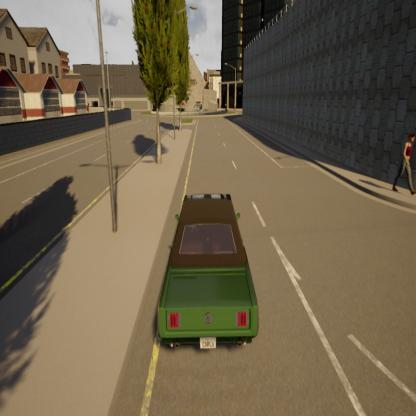Cars: (149, 178, 263, 354)
Pedestrian: (379, 126, 416, 204)
